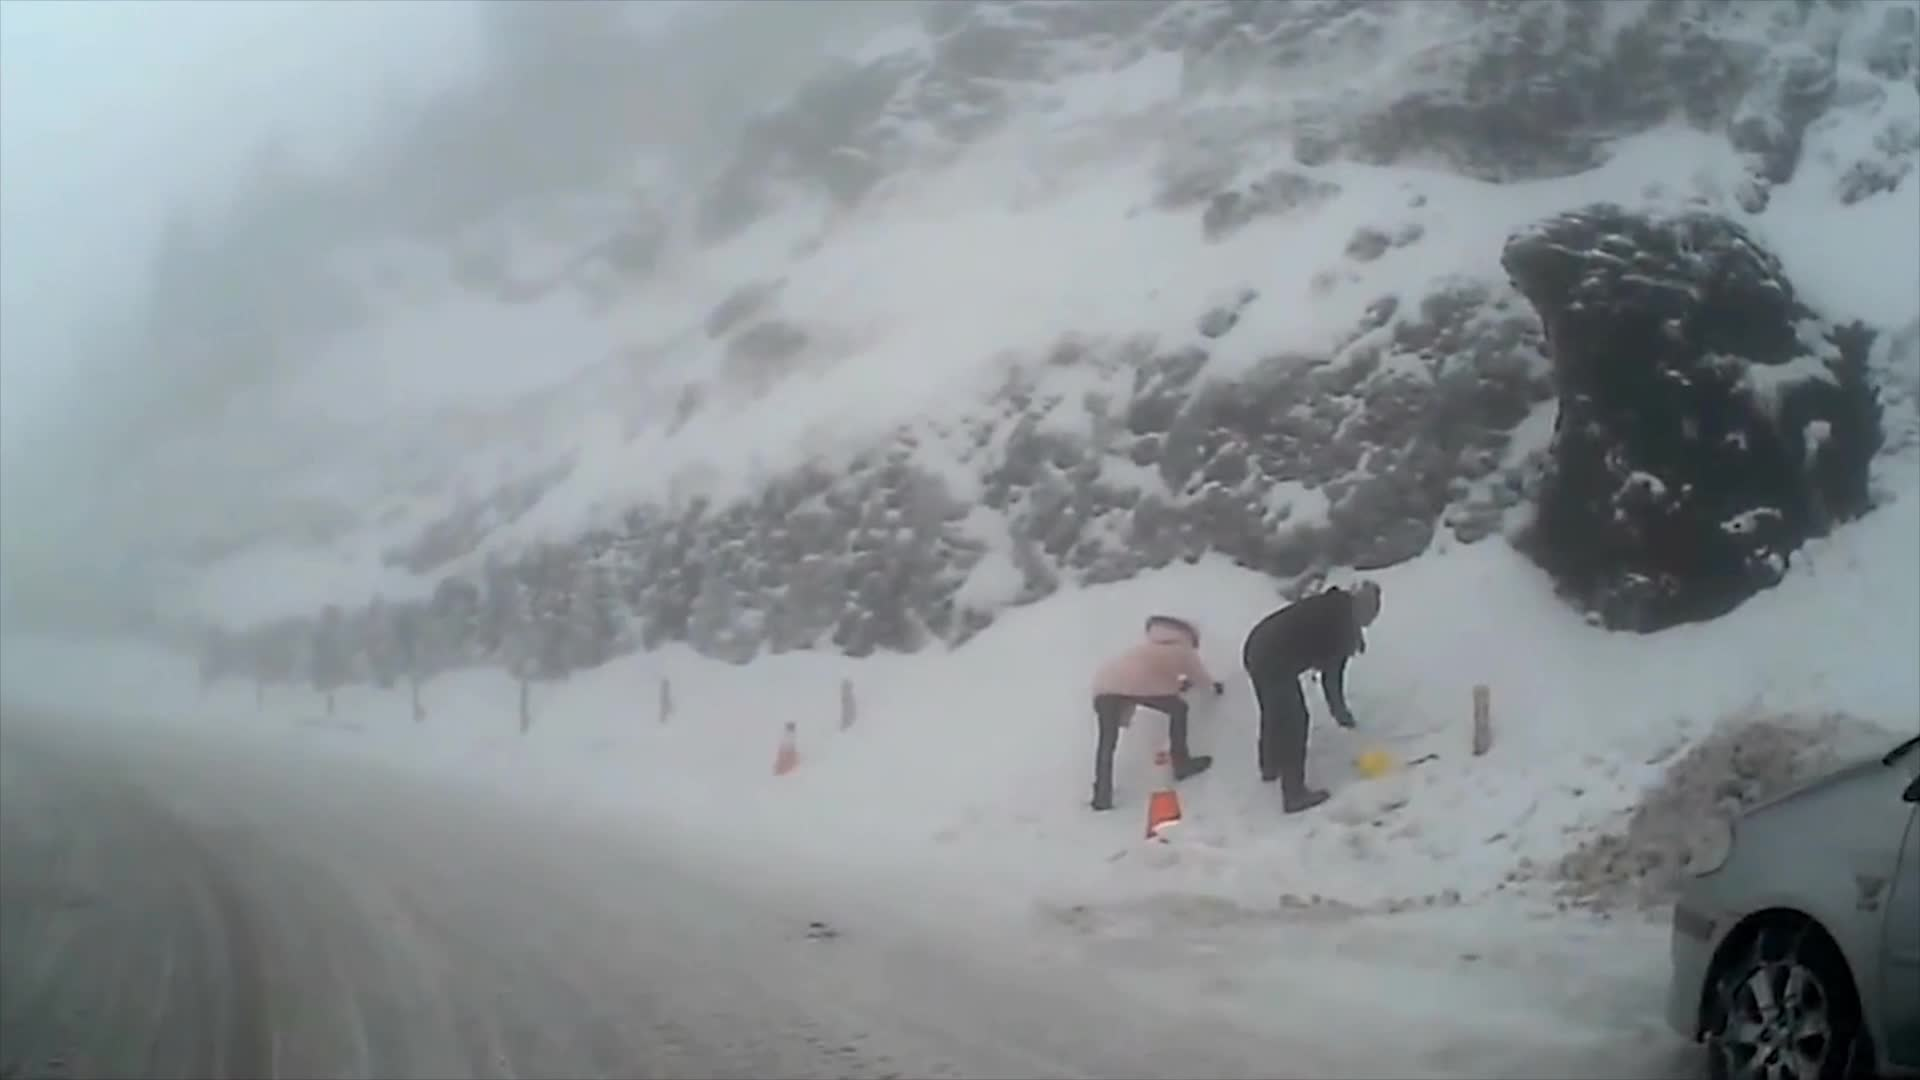pedestrian: (1242, 583, 1383, 815), (1086, 609, 1228, 815)
vehicle: (1661, 732, 1920, 1079)
